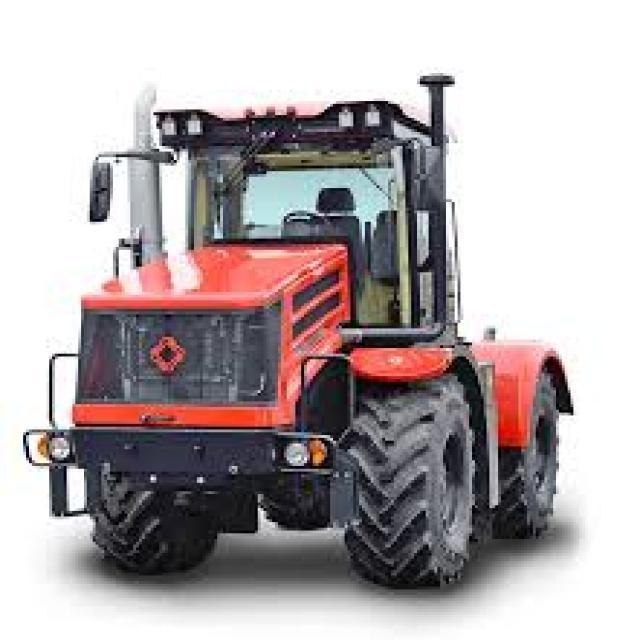Tratores - v5 YOLO V8L 2024-11-13: (25, 101, 576, 592)
